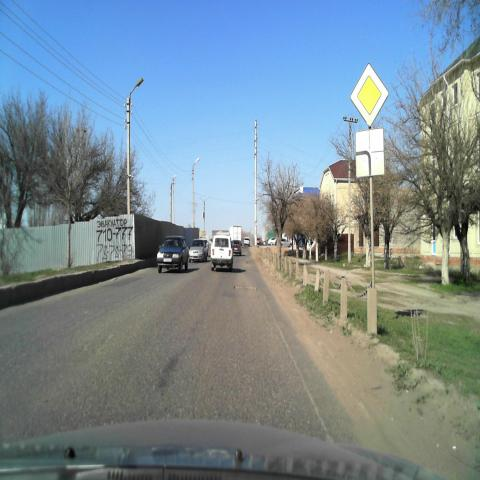8_13: (355, 130, 385, 178)
